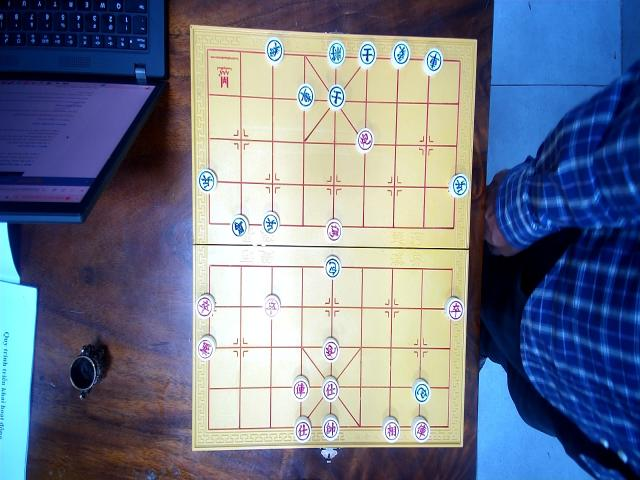piece: (422, 47, 443, 76), (264, 36, 284, 66), (448, 172, 470, 199), (326, 40, 346, 68), (390, 42, 410, 70), (357, 40, 377, 68), (411, 378, 431, 405), (196, 335, 216, 361), (381, 416, 400, 443), (411, 416, 430, 443), (296, 82, 314, 110), (197, 168, 217, 193), (444, 296, 464, 321), (294, 416, 312, 443), (322, 414, 340, 441), (322, 337, 340, 364), (327, 83, 345, 110), (196, 292, 214, 318), (292, 375, 310, 401), (230, 213, 248, 239), (356, 127, 374, 153), (262, 211, 280, 236), (263, 294, 281, 318), (321, 377, 339, 401), (325, 218, 343, 242), (324, 254, 342, 278)
